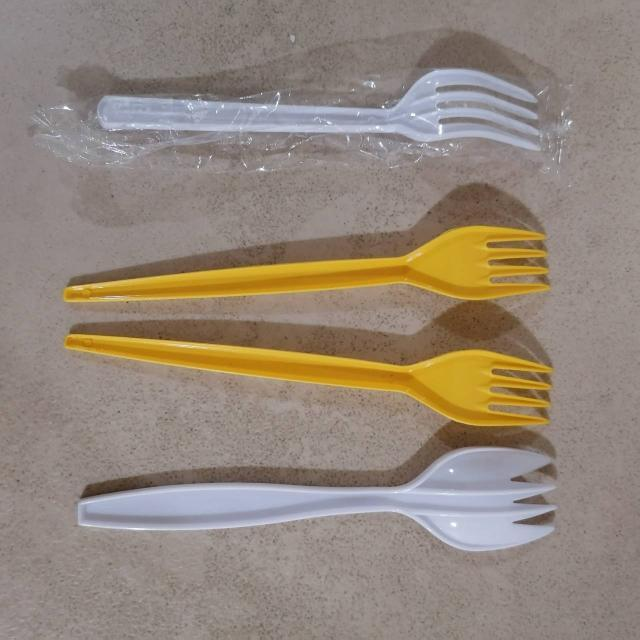Plastico descartable: (78, 448, 554, 551), (65, 334, 551, 426), (64, 226, 549, 302), (96, 69, 542, 151)
